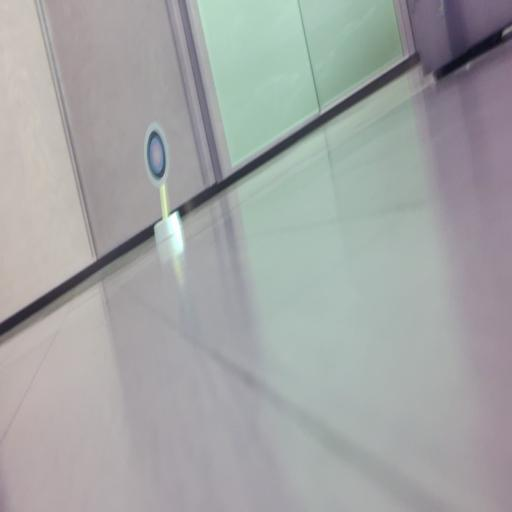target: (144, 122, 169, 188)
